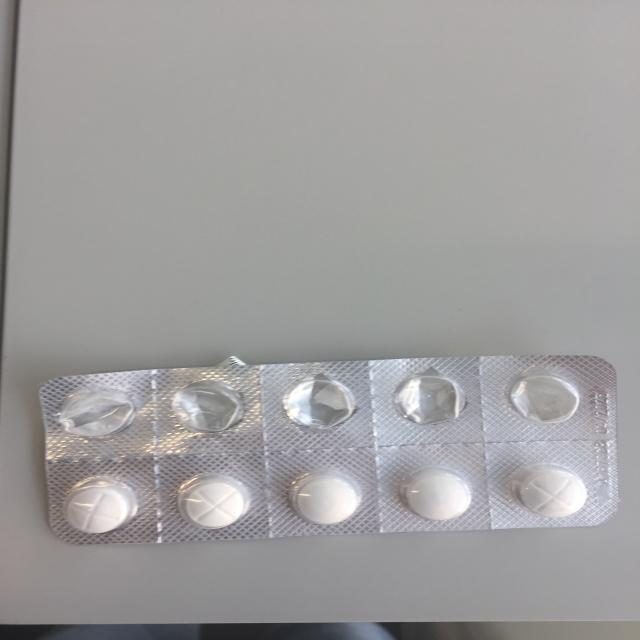Empty: (383, 363, 472, 430), (271, 368, 362, 433), (161, 376, 247, 438), (48, 384, 142, 440), (503, 370, 583, 428)
Pill: (394, 466, 486, 528), (51, 476, 141, 536), (280, 468, 368, 528), (509, 462, 592, 522), (167, 474, 255, 530)
